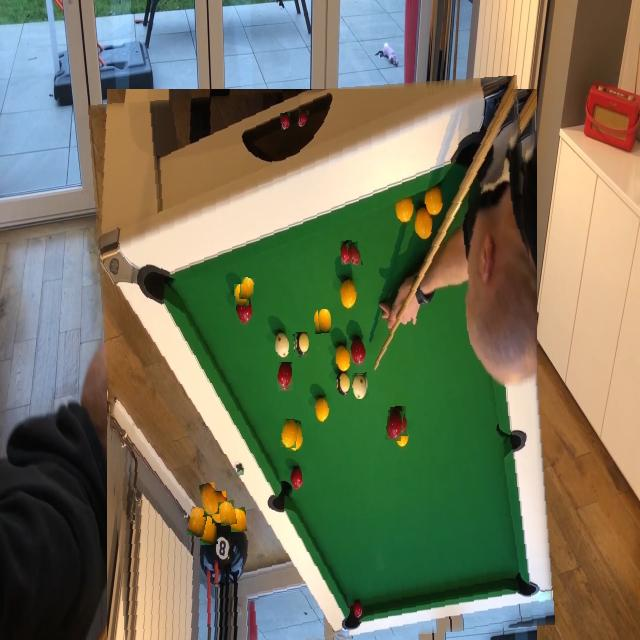Ball: (200, 482, 220, 516), (188, 507, 207, 536), (386, 411, 404, 441), (281, 419, 299, 448), (219, 500, 237, 526), (292, 357, 309, 384), (277, 362, 292, 388), (353, 375, 367, 399), (295, 332, 309, 356), (348, 242, 362, 266), (318, 309, 331, 333), (240, 278, 254, 300), (298, 110, 308, 127)
Billiard table: (97, 82, 546, 640)
